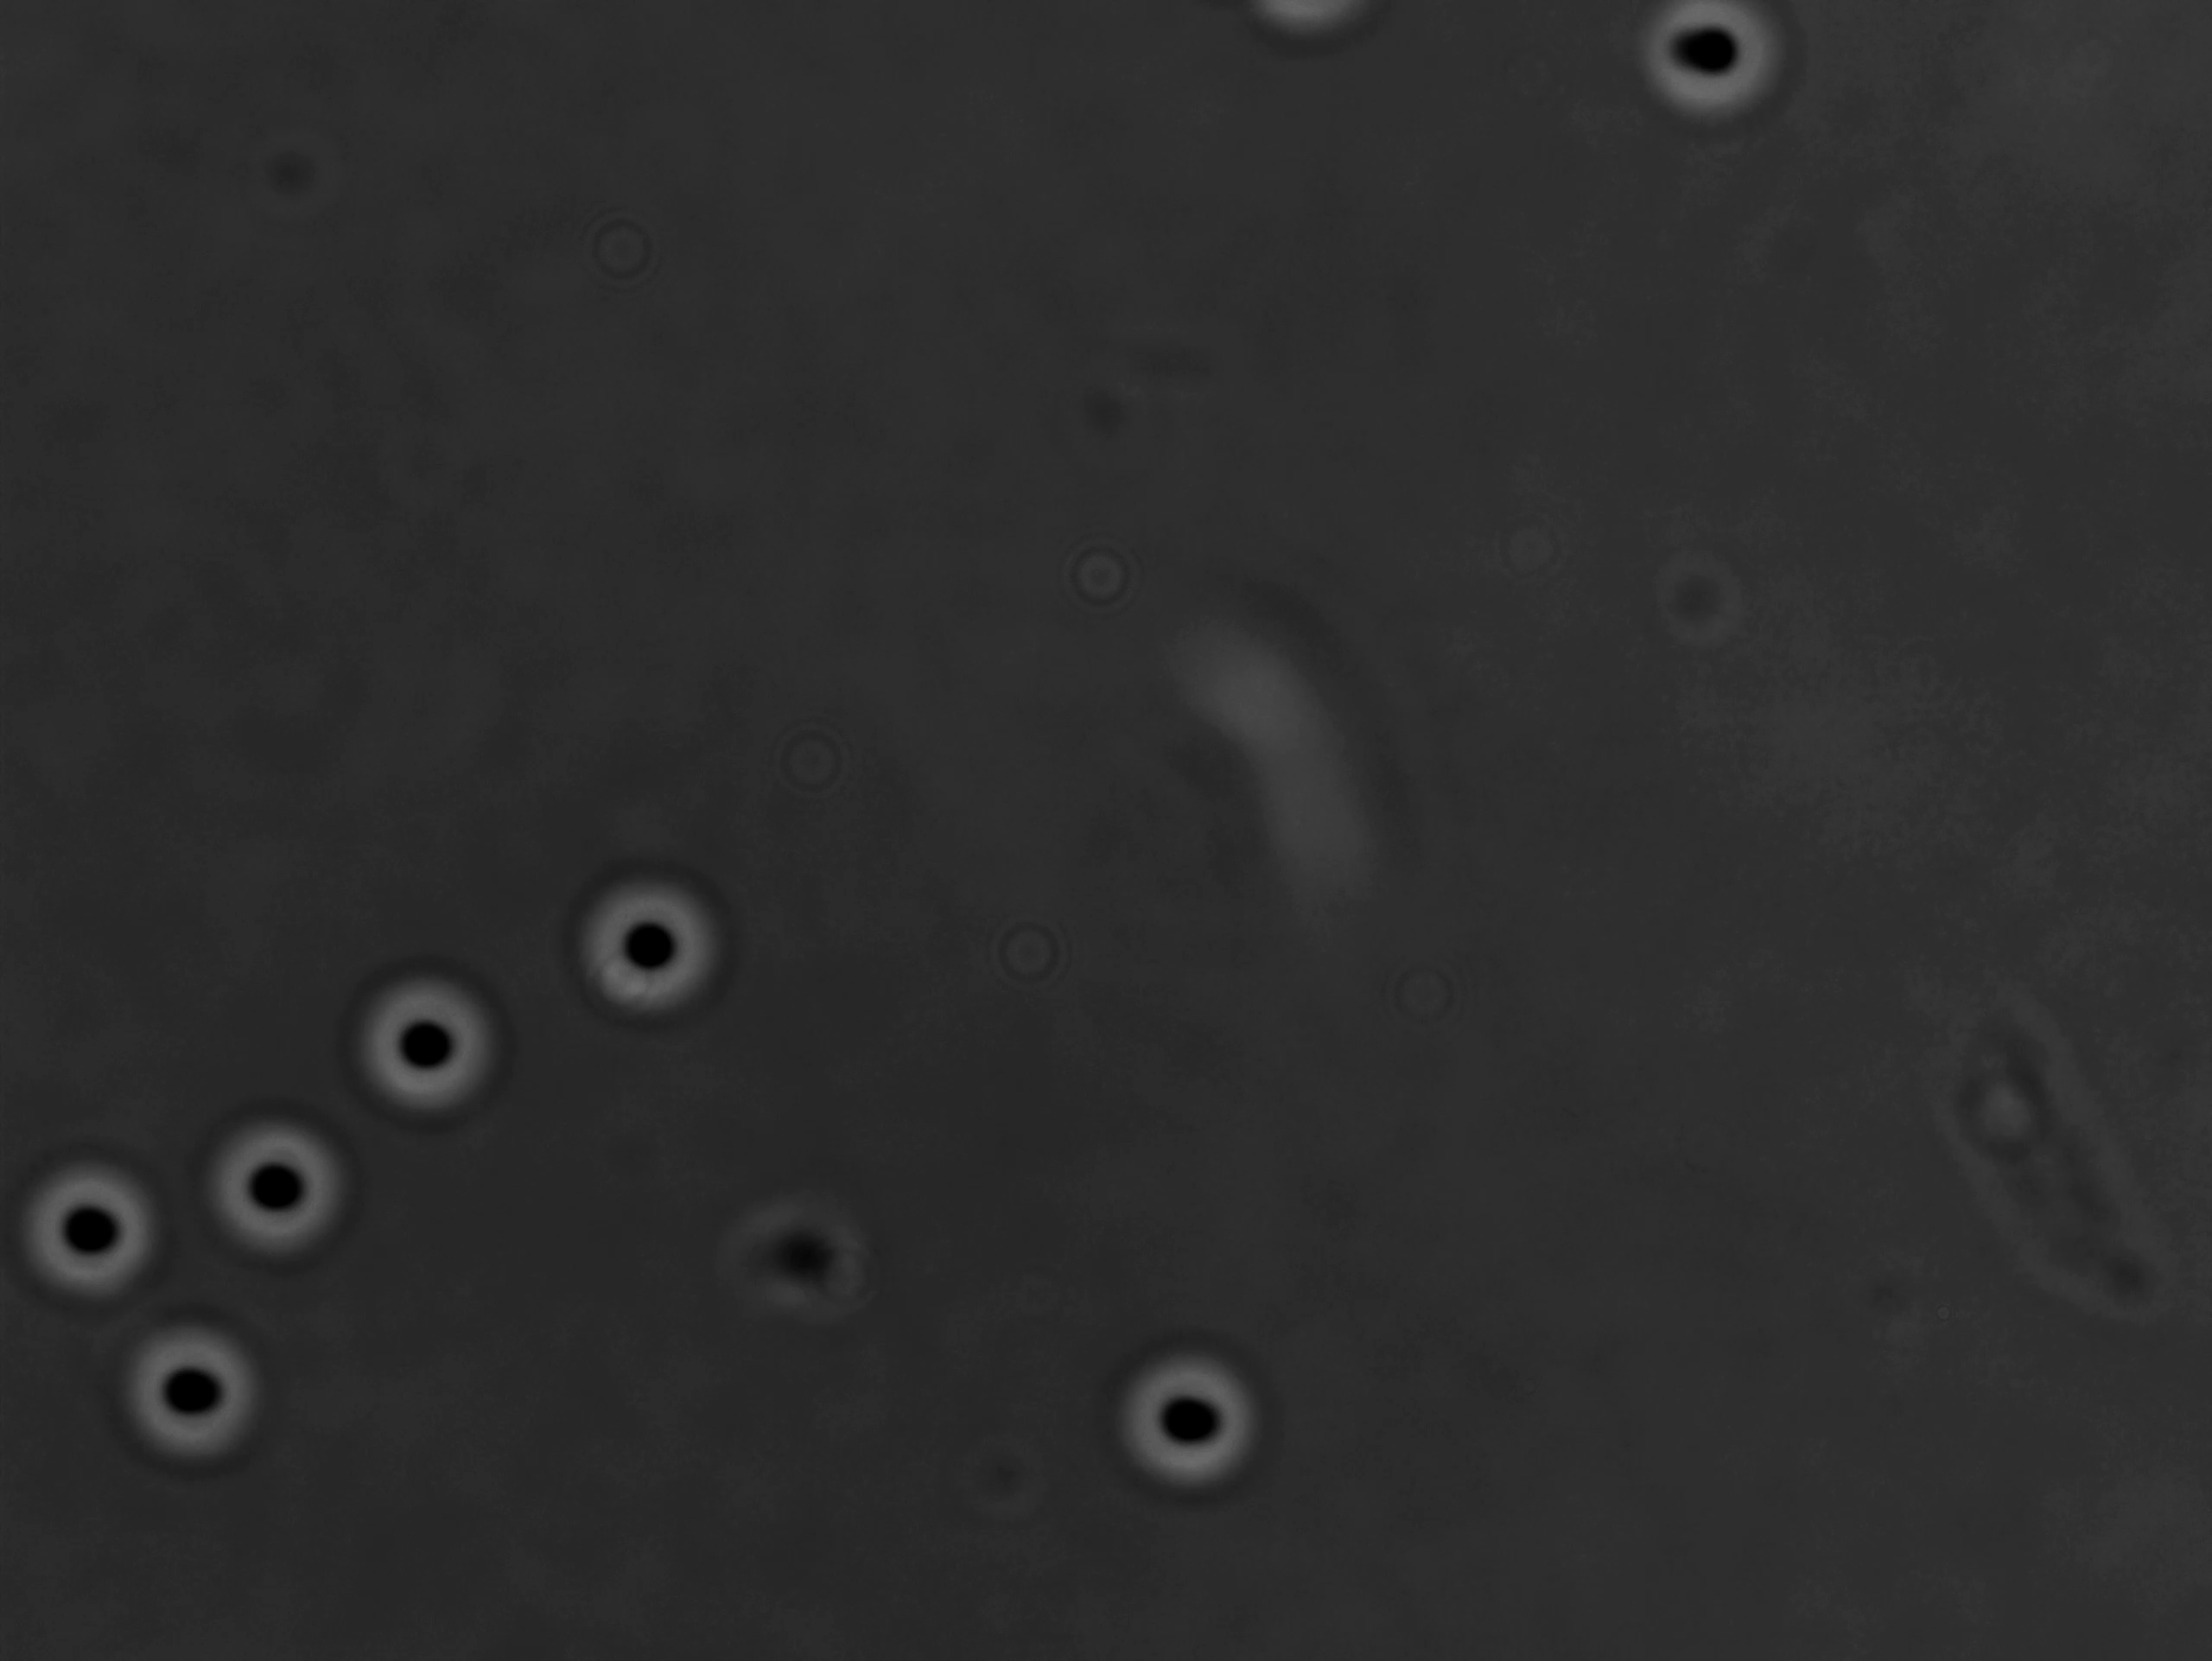depth:-40: (338, 951, 525, 1132), (1106, 1333, 1286, 1509), (562, 865, 740, 1038), (190, 1104, 356, 1261), (113, 1319, 272, 1480), (10, 1145, 167, 1307)
